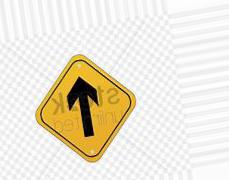forward: (35, 53, 136, 163)
